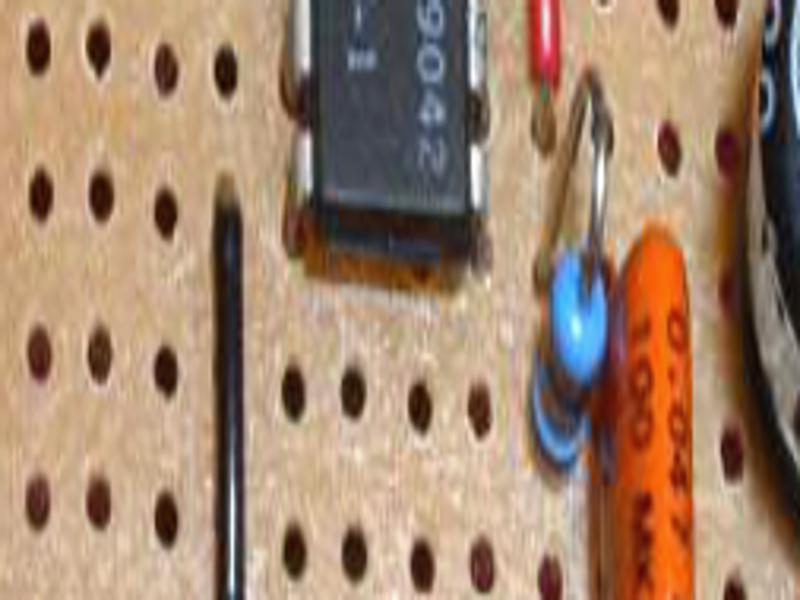Resistor: (518, 228, 619, 476)
